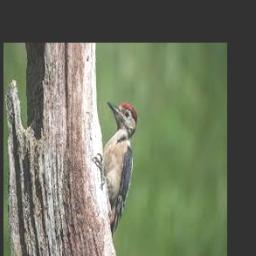Woodpecker: (102, 102, 137, 234)
